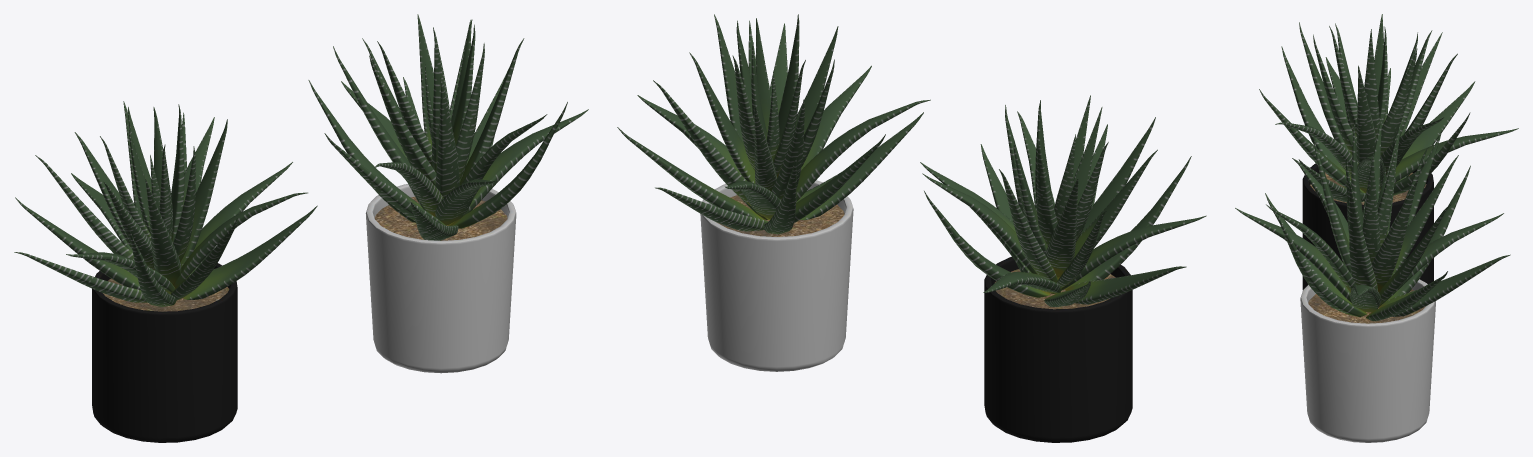
The picture shows the model from 3 angles, left to right: view 1: azimuth 30°, elevation 25°; view 2: azimuth 150°, elevation 25°; view 3: azimuth 270°, elevation 25°; orthographic projection. The views are drawn at different scales.
Parts seen in each view (by area): view 1: Object_3, Object_2; view 2: Object_3, Object_2; view 3: Object_3, Object_2.
Part boxes in pixels (bbox=[...]): Object_3: bbox=[14, 14, 588, 306]; Object_2: bbox=[92, 184, 516, 442]; Object_3: bbox=[617, 14, 1206, 306]; Object_2: bbox=[700, 180, 1132, 442]; Object_3: bbox=[1235, 14, 1518, 321]; Object_2: bbox=[1300, 163, 1435, 442].
Bounding box in the file's own units: 0.32 × 0.1778 × 0.1566.
2 materials, 2 textured.
